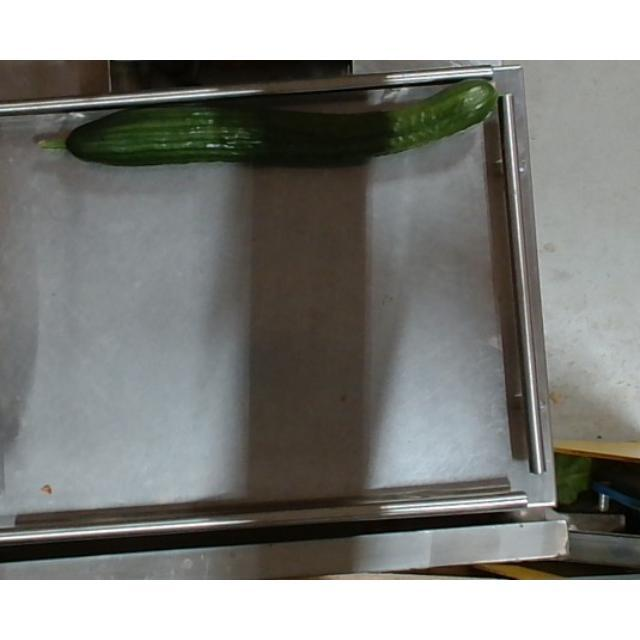cucumber: (32, 83, 498, 163)
